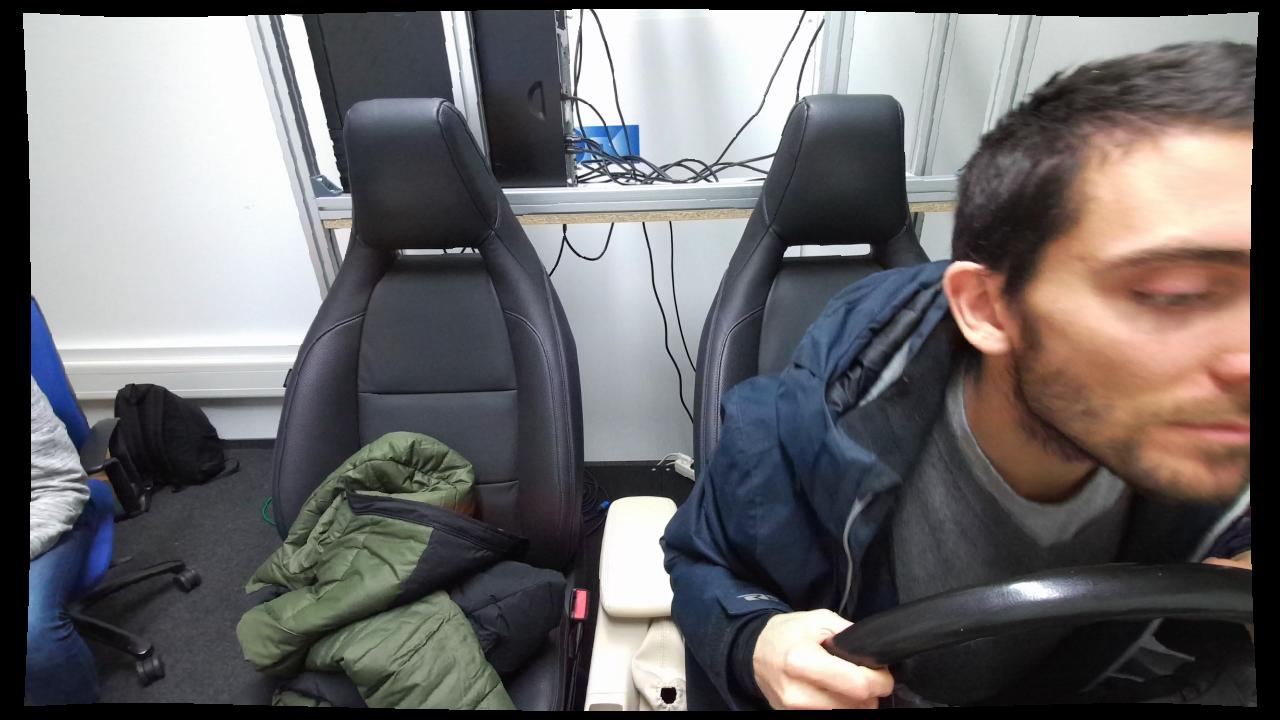Distracted: (660, 42, 1253, 711)
